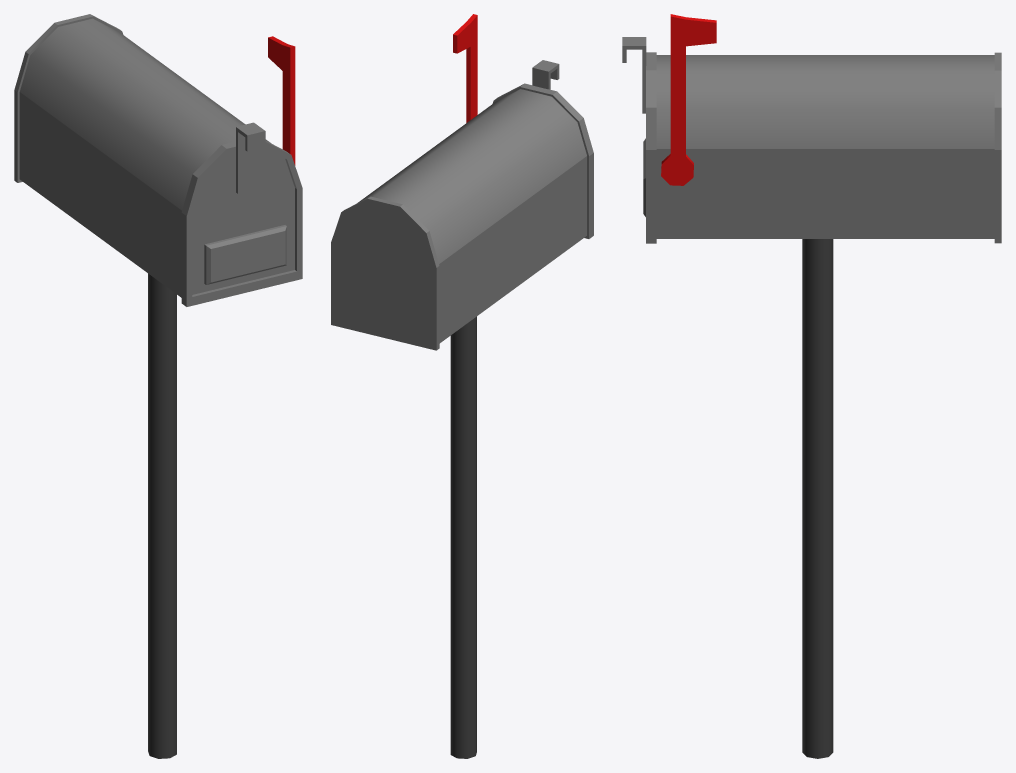
File: SM_mailbox_01.fbx
3 renders of one model, left to right at view 1: azimuth 30°, elevation 25°; view 2: azimuth 150°, elevation 25°; view 3: azimuth 270°, elevation 25°, orthographic. The views are drawn at different scales.
Parts seen in each view (by area): view 1: Cylinder005; view 2: Cylinder005; view 3: Cylinder005.
Part boxes in pixels (<box>): Cylinder005: <box>14,14,302,758</box>; Cylinder005: <box>331,14,593,758</box>; Cylinder005: <box>622,14,1001,758</box>.
Bounding box in the file's own units: 9.06 × 53.51 × 23.98.
